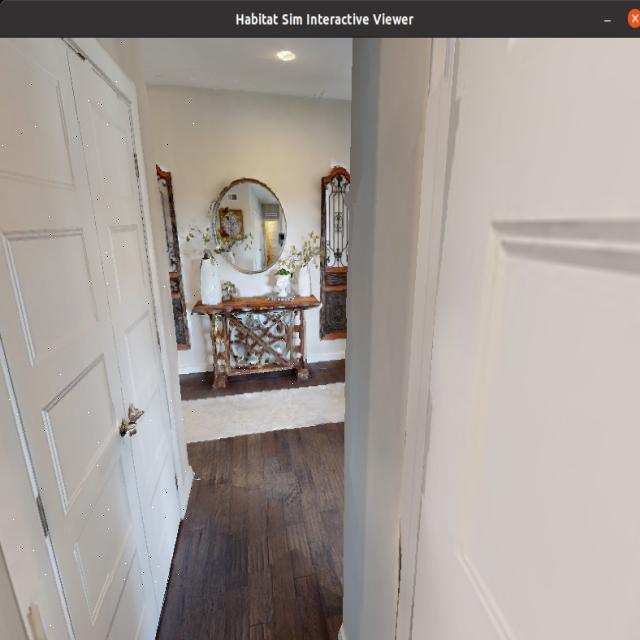door: (0, 42, 194, 640)
table: (186, 277, 332, 392)
